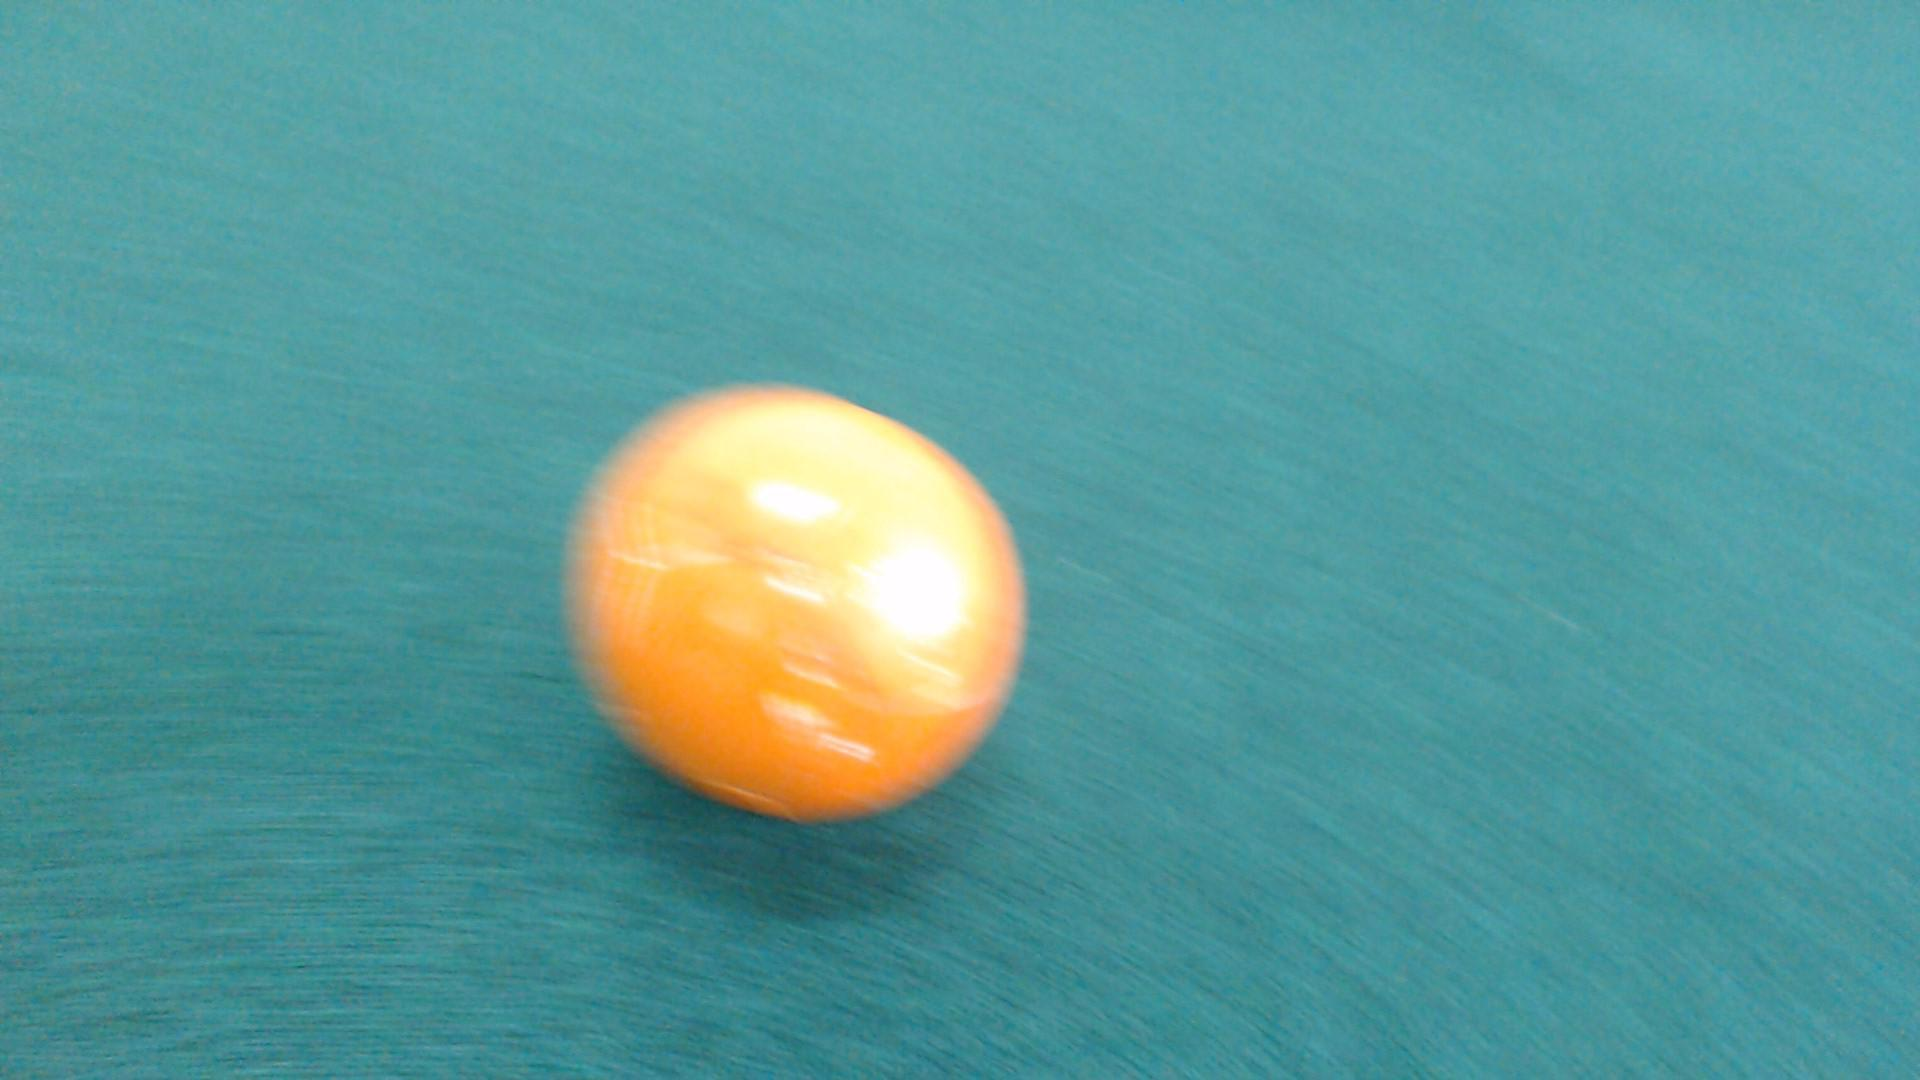bola: (541, 335, 1056, 864)
